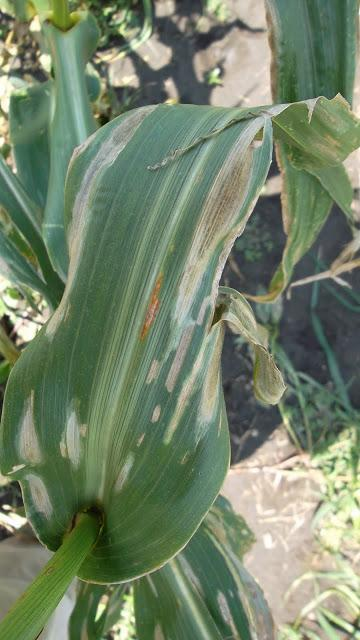Corn leaf blight: (16, 94, 354, 549)
